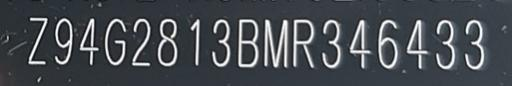letter: (458, 19, 490, 71), (372, 18, 402, 70), (429, 18, 457, 68), (207, 16, 233, 68), (262, 16, 288, 68), (235, 16, 261, 68), (22, 14, 48, 64), (402, 18, 428, 68), (318, 19, 344, 69), (290, 16, 314, 70), (128, 15, 152, 67), (154, 16, 178, 68), (180, 16, 204, 68), (346, 18, 370, 70), (76, 15, 100, 65), (103, 16, 127, 66), (52, 15, 72, 65)
